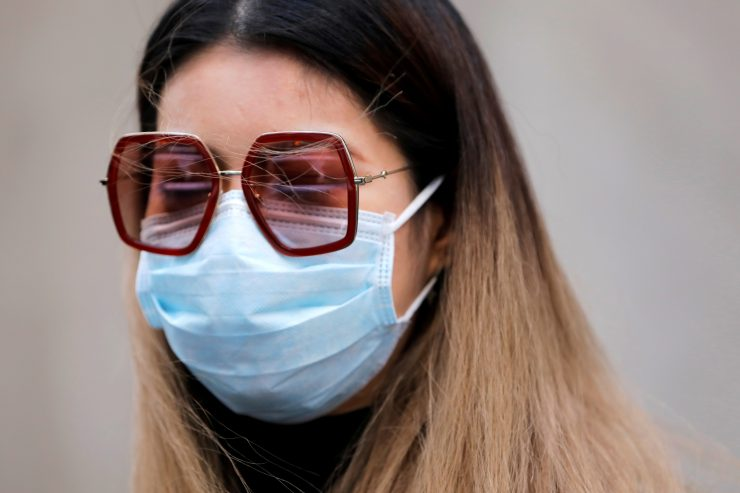surgical: (123, 194, 422, 423)
